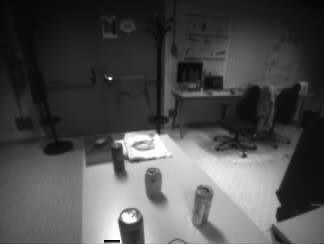Tin can: (119, 208, 145, 244), (193, 186, 211, 227), (112, 143, 125, 174), (146, 168, 160, 195)
